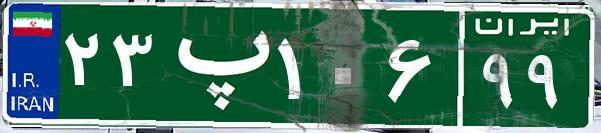0: (330, 28, 385, 110)
1: (273, 28, 330, 110)
2: (57, 26, 110, 107)
3: (110, 28, 158, 105)
6: (385, 28, 445, 110)
9: (475, 38, 525, 113), (525, 38, 570, 115)
پ: (158, 15, 273, 115)
